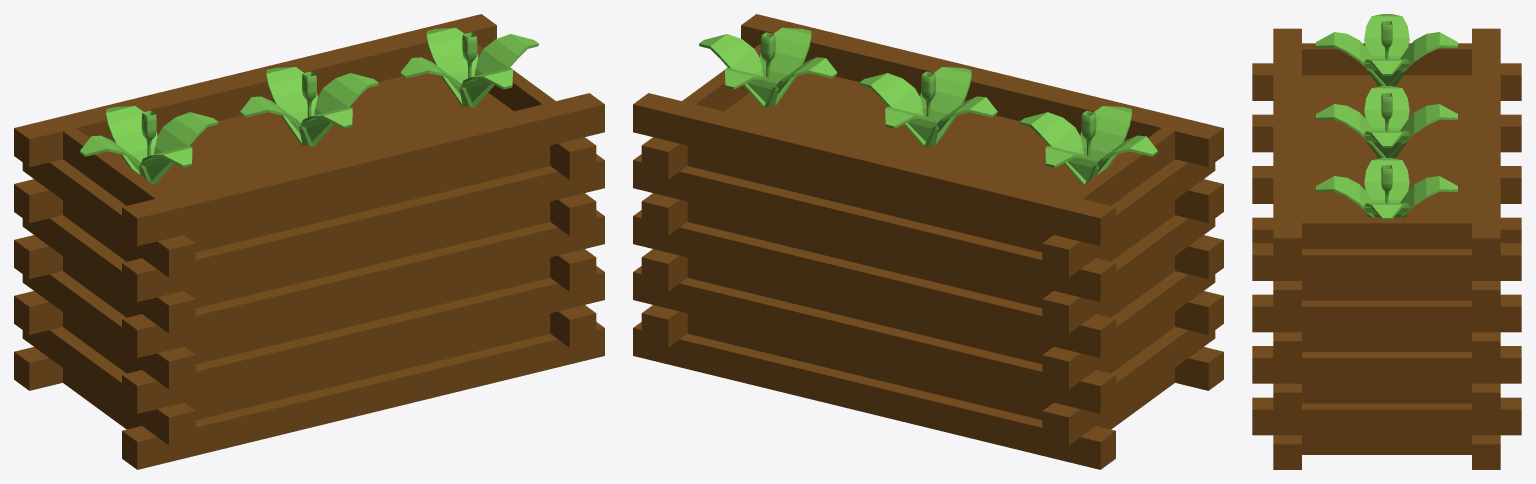
The model's file is PlantBox.fbx.
3 renders of one model, left to right at view 1: azimuth 30°, elevation 25°; view 2: azimuth 150°, elevation 25°; view 3: azimuth 270°, elevation 25°, orthographic. The views are drawn at different scales.
Visible parts, largest first — view 1: PlantBox; view 2: PlantBox; view 3: PlantBox.
Part boxes in pixels (x1,y1,x2,y2): PlantBox: (14, 14, 604, 469); PlantBox: (633, 14, 1223, 469); PlantBox: (1252, 14, 1521, 469).
Bounding box in the file's own units: 175 × 105 × 94.8.
